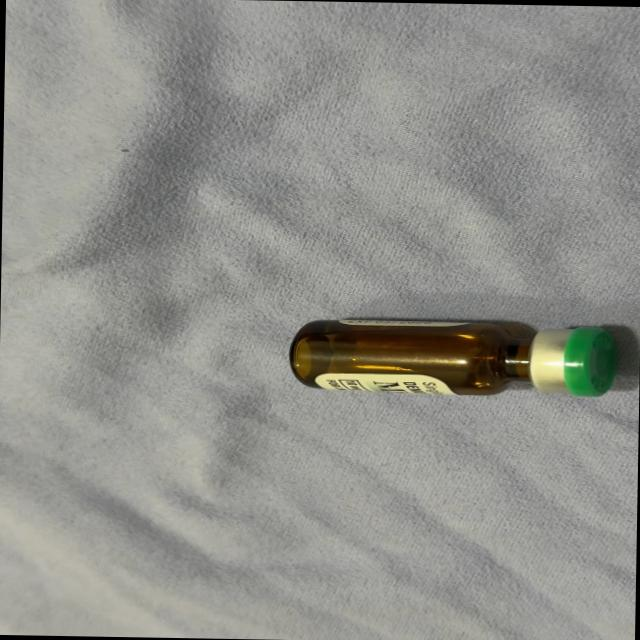midazolm: (295, 318, 612, 397)
